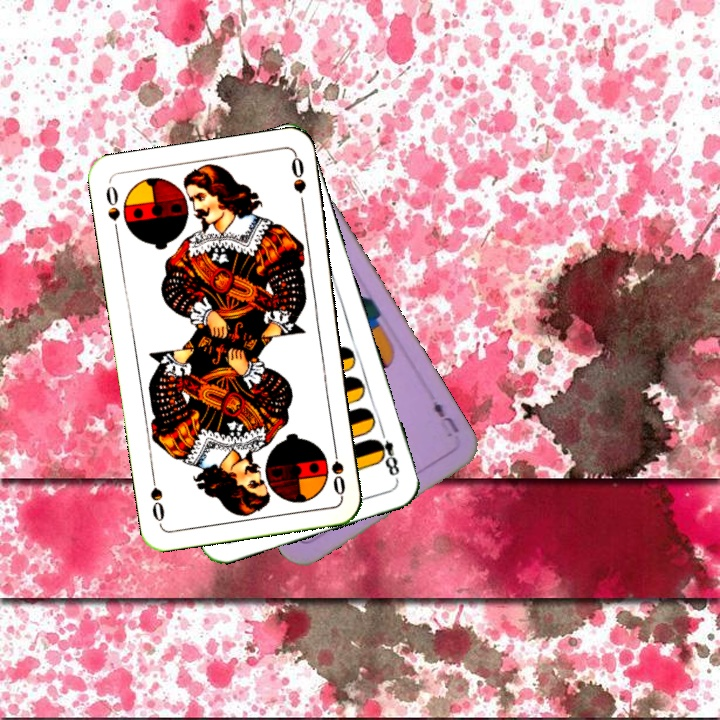E8: (370, 424, 402, 479)
EU: (428, 396, 462, 436)
SO: (327, 439, 348, 498), (102, 181, 123, 239)
